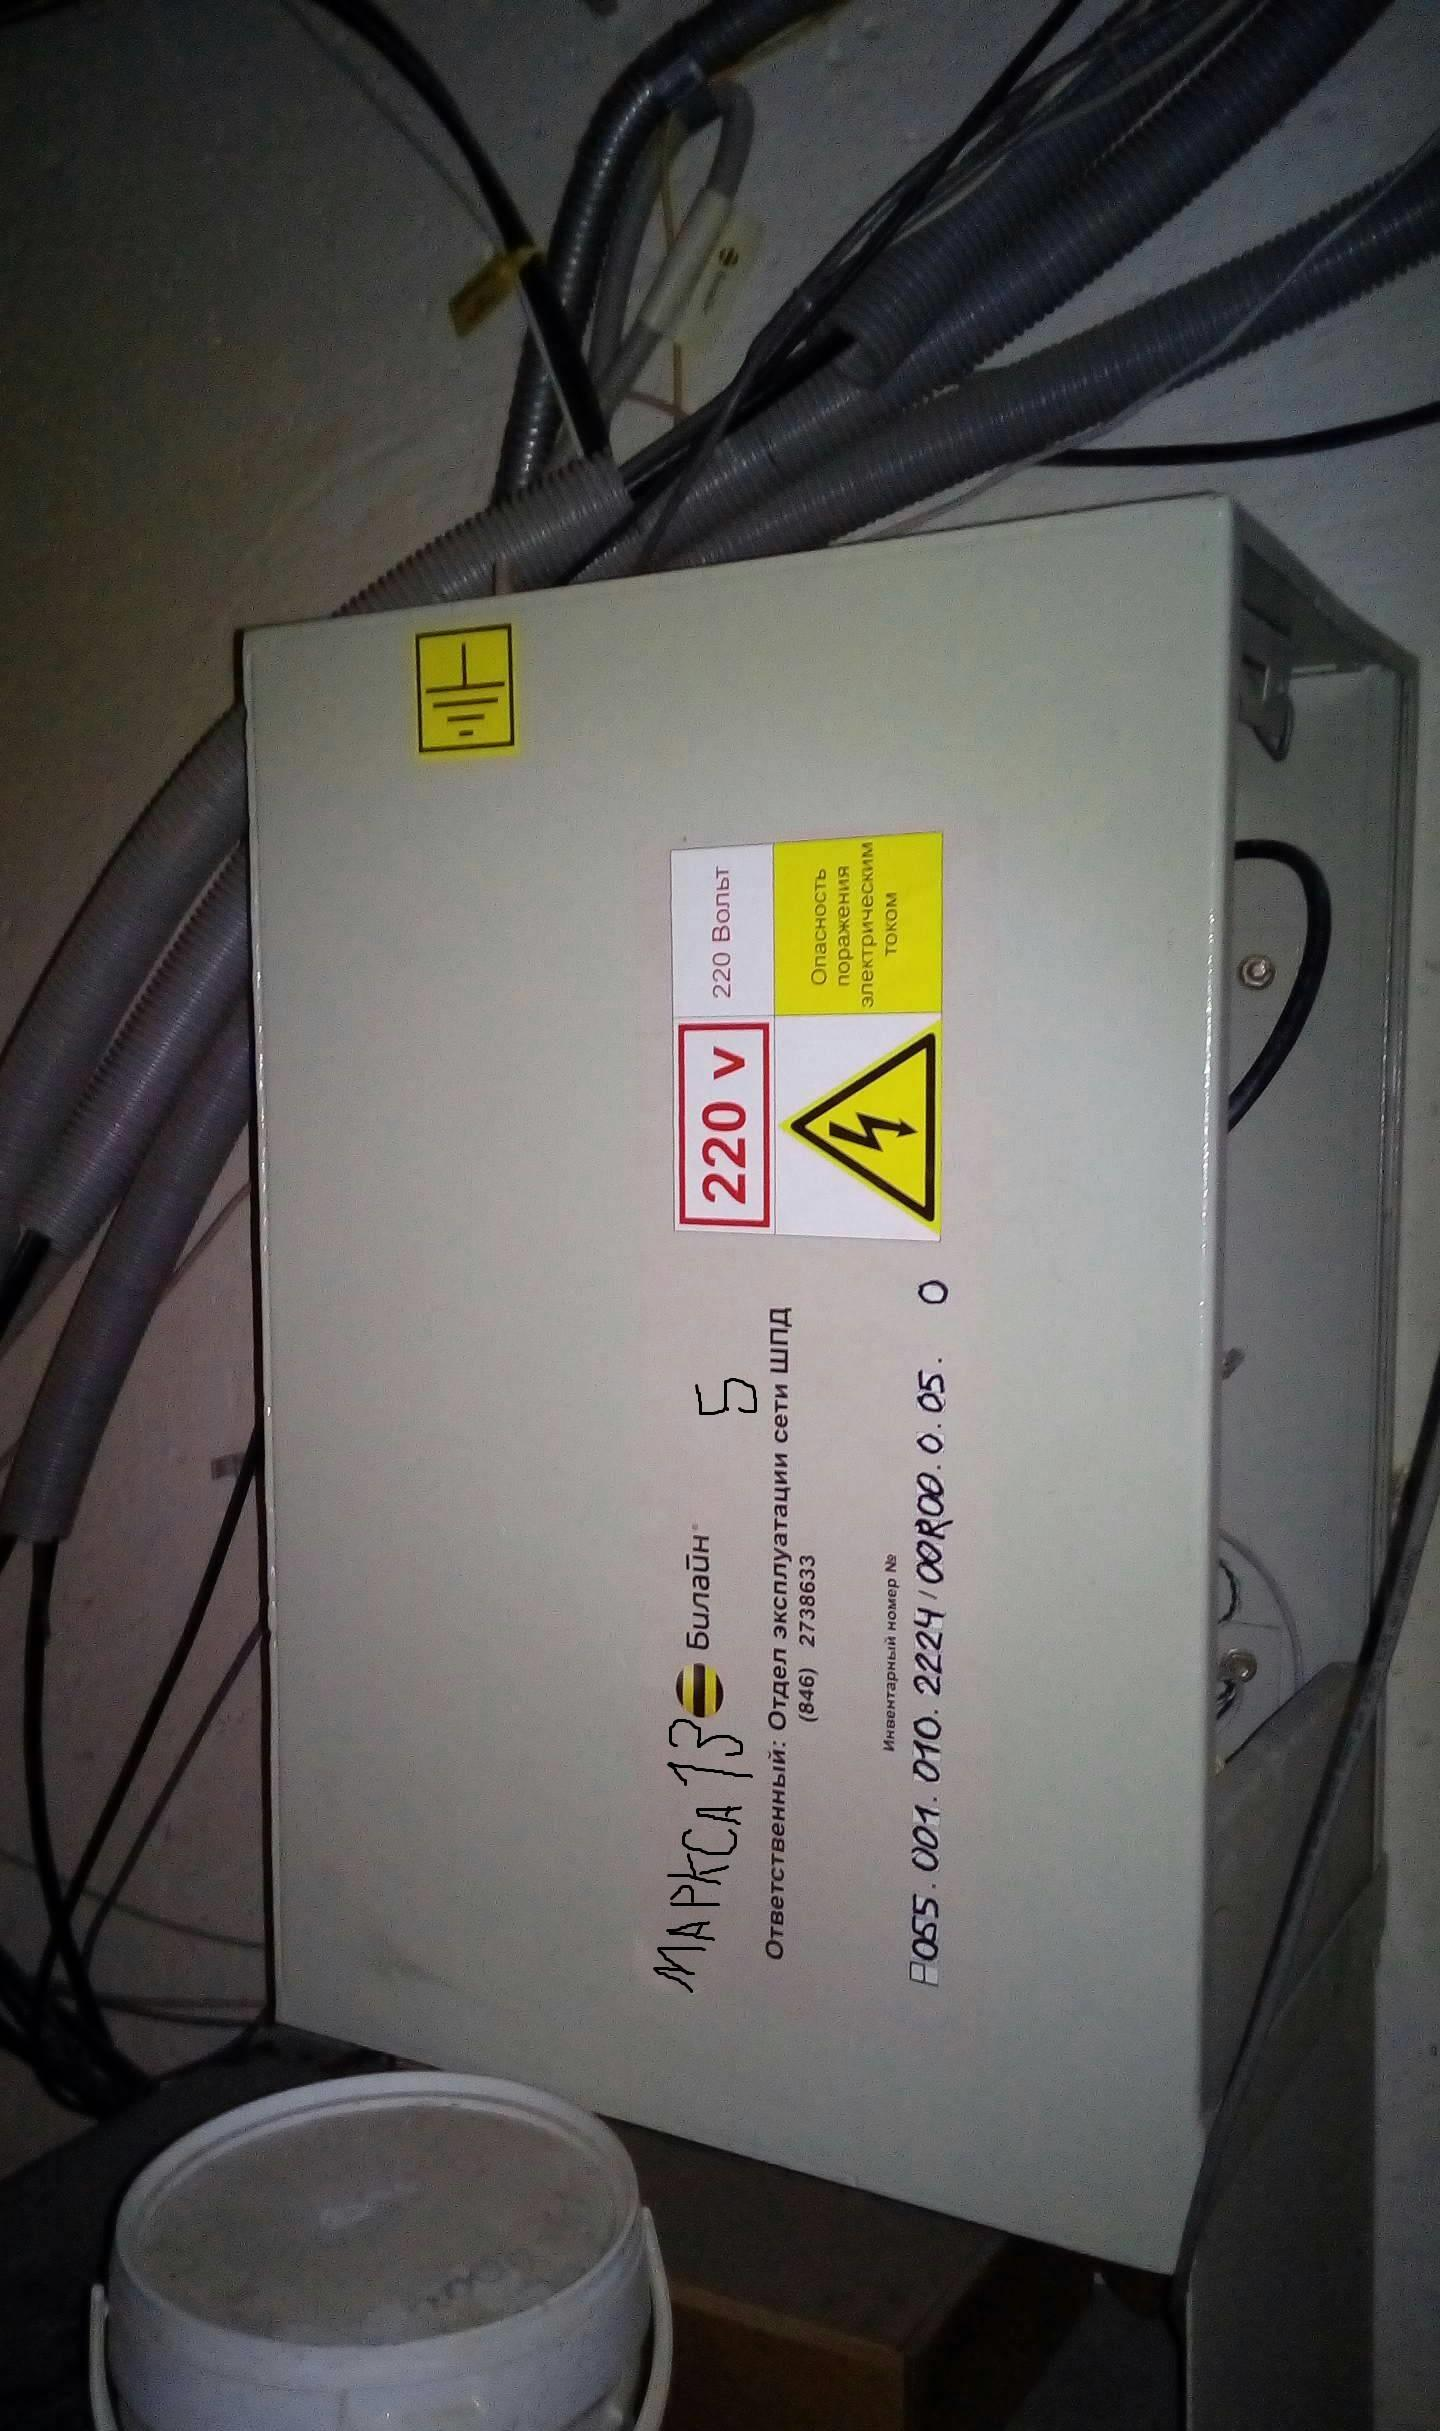sv-5: (226, 485, 1419, 2289)
